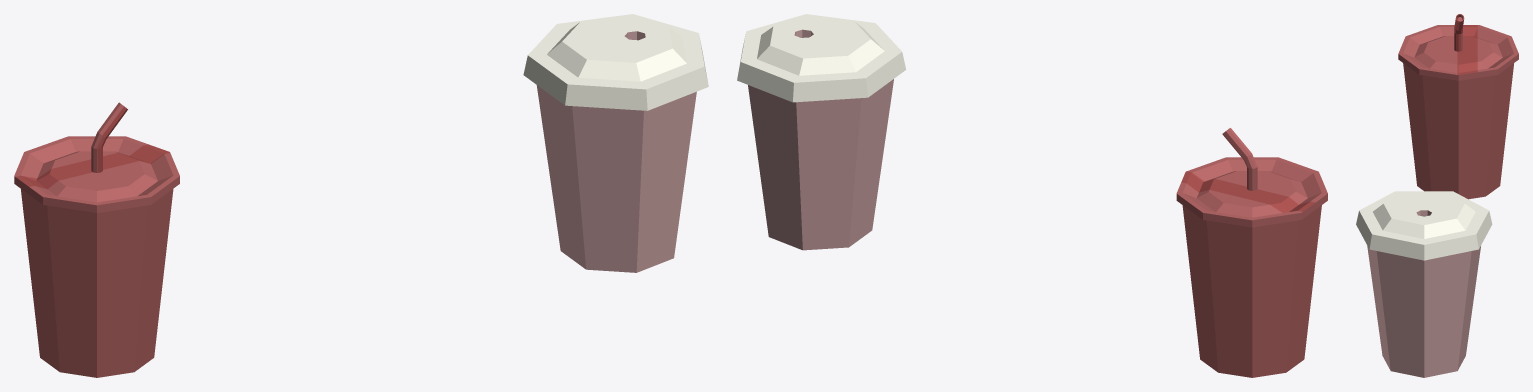
Rendered from Cups + Straws.FBX.
The picture shows the model from 3 angles, left to right: view 1: azimuth 30°, elevation 25°; view 2: azimuth 150°, elevation 25°; view 3: azimuth 270°, elevation 25°; orthographic projection. The views are drawn at different scales.
Visible parts, largest first — view 1: Soda2, Soda; view 2: Soda2, Soda; view 3: Soda2, Soda.
Part boxes in pixels (left/top/right/bottom): Soda2: left=523, top=14, right=708, bottom=272; Soda: left=14, top=102, right=179, bottom=377; Soda2: left=737, top=14, right=906, bottom=250; Soda: left=1176, top=128, right=1327, bottom=377; Soda2: left=1356, top=191, right=1492, bottom=377; Soda: left=1398, top=14, right=1518, bottom=199.
Size of the model in its own units: 215 by 76.98 by 64.09.
